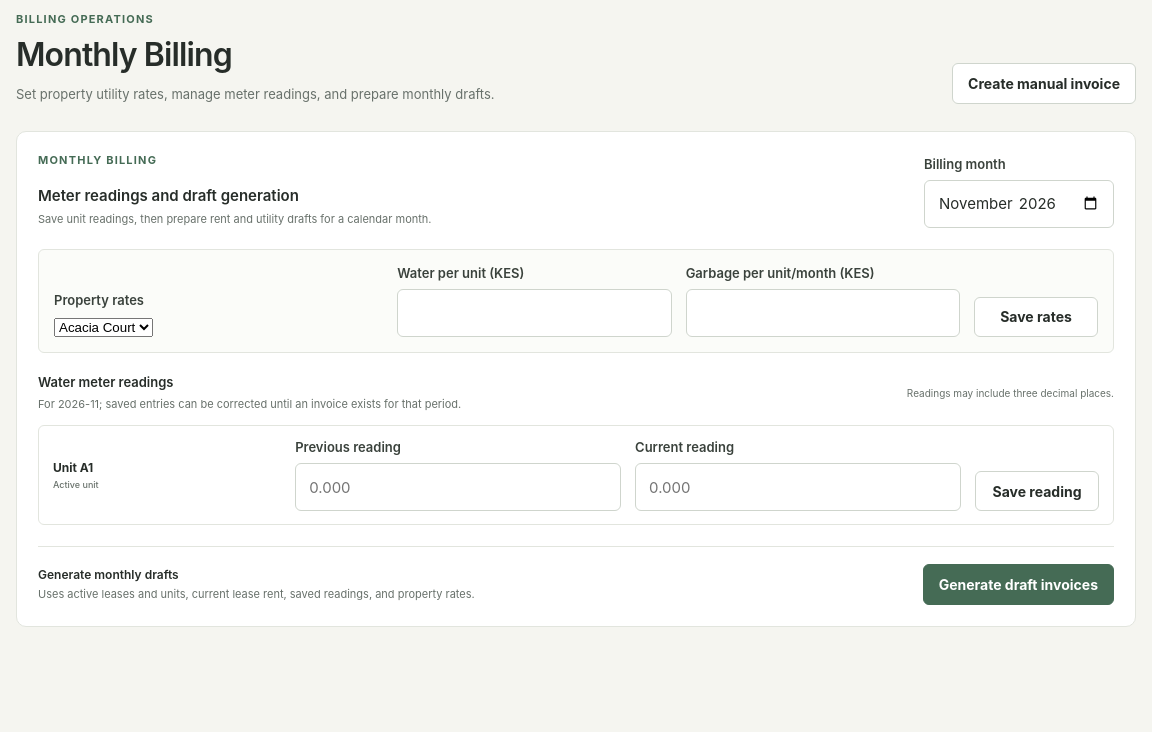
Test: MonthlyBillingPage › explains that all invoices already exist and no duplicates were created
Expected: the field labelled "Current reading" is shown, [635,463,961,511]
Click the button "Generate draft invoices".
click(1018, 585)  # box [923,564,1114,605]
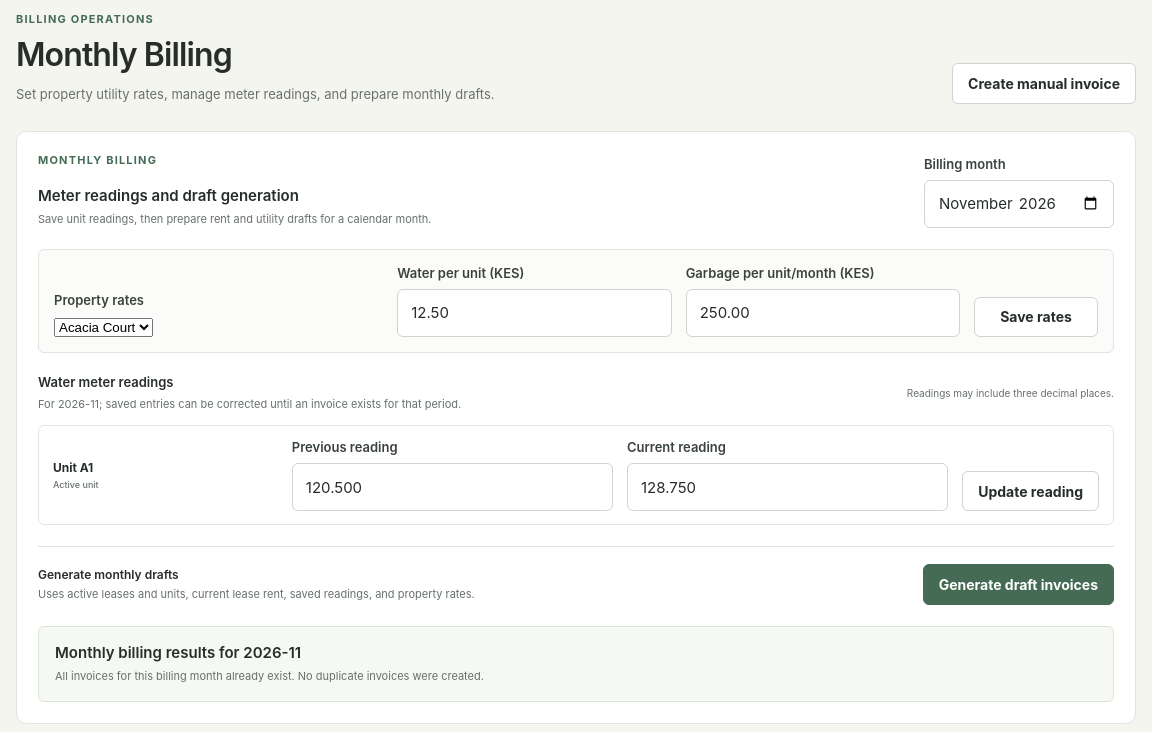
Expected: the text "All invoices for this billing month already exist. No duplicate invoices were created." is shown, [55,669,484,683]
